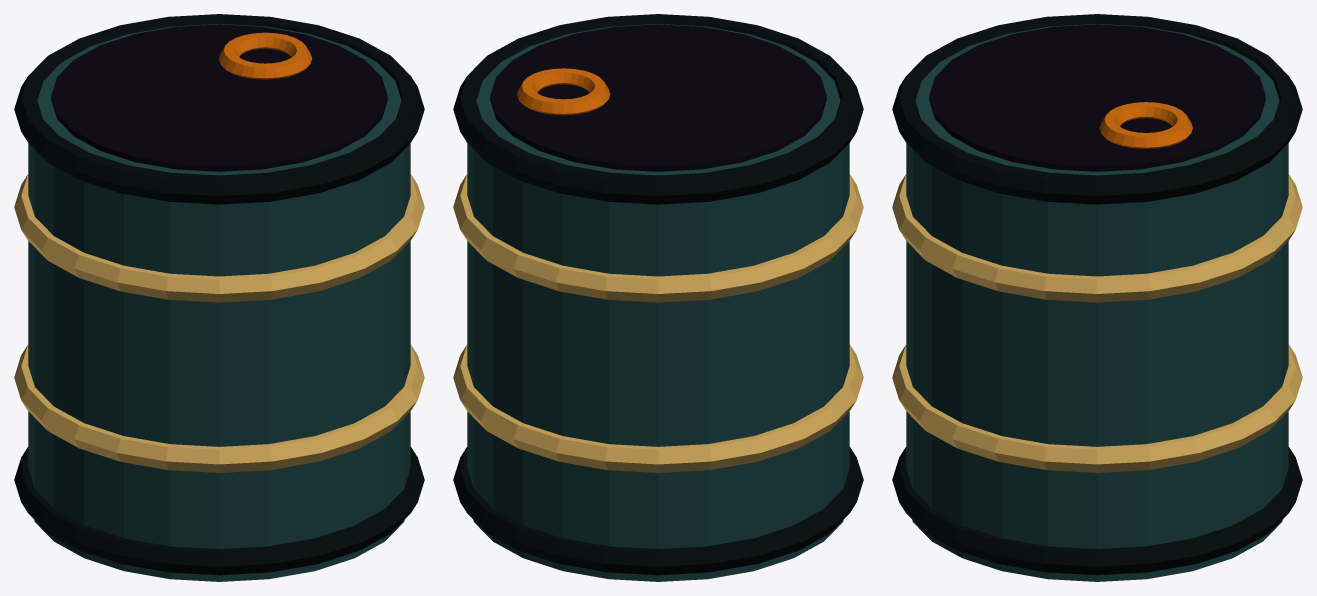
File: steel_drum.fbx
3 renders of one model, left to right at view 1: azimuth 30°, elevation 25°; view 2: azimuth 150°, elevation 25°; view 3: azimuth 270°, elevation 25°, orthographic.
Parts seen in each view (by area): view 1: Part_2, Part_0, Part_3, Part_1; view 2: Part_1, Part_0, Part_2, Part_3; view 3: Part_0, Part_3, Part_2, Part_1.
Part boxes in pixels (<box>): Part_2: <box>41,131,363,581</box>; Part_0: <box>28,14,424,175</box>; Part_3: <box>303,98,424,570</box>; Part_1: <box>14,70,73,540</box>; Part_1: <box>556,131,836,581</box>; Part_0: <box>453,17,826,570</box>; Part_2: <box>660,24,863,540</box>; Part_3: <box>601,14,757,33</box>; Part_0: <box>932,24,1302,581</box>; Part_3: <box>892,96,1097,581</box>; Part_2: <box>892,14,1097,478</box>; Part_1: <box>1097,14,1302,478</box>.
Bounding box in the file's own units: 1.36 × 1.52 × 1.36.
